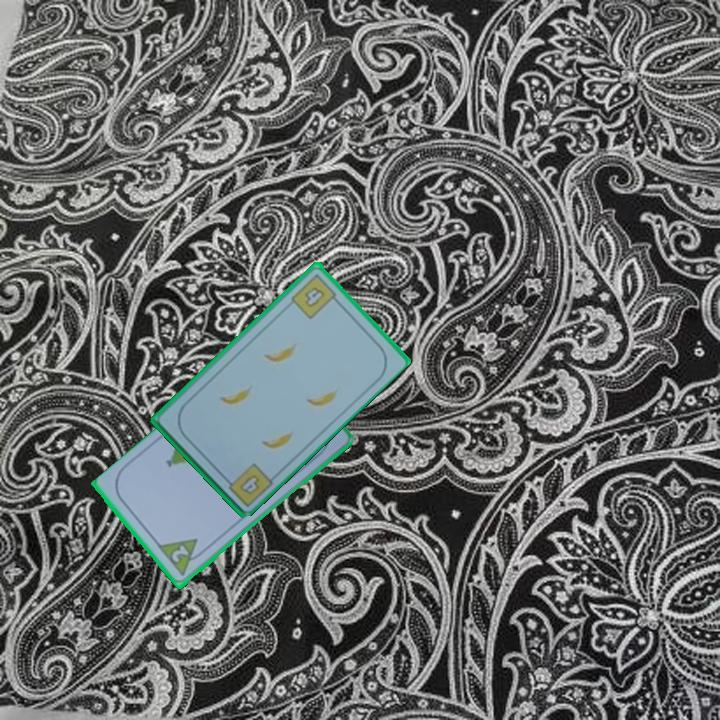2p: (155, 535, 209, 580)
4b: (220, 459, 275, 510), (288, 270, 342, 321)
